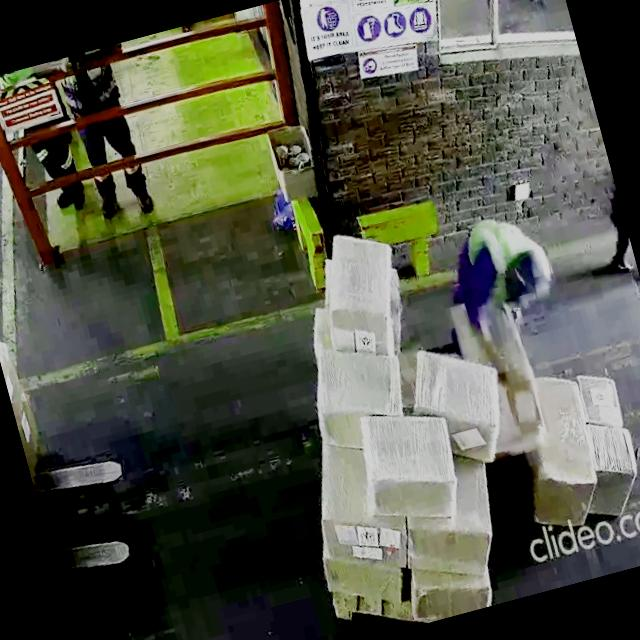Box: (356, 396, 464, 516), (406, 335, 506, 451), (527, 371, 604, 516), (315, 222, 404, 344), (314, 492, 406, 580), (404, 500, 498, 584), (314, 339, 399, 426), (315, 538, 406, 616), (406, 556, 496, 624), (588, 419, 640, 507), (572, 364, 622, 424)
